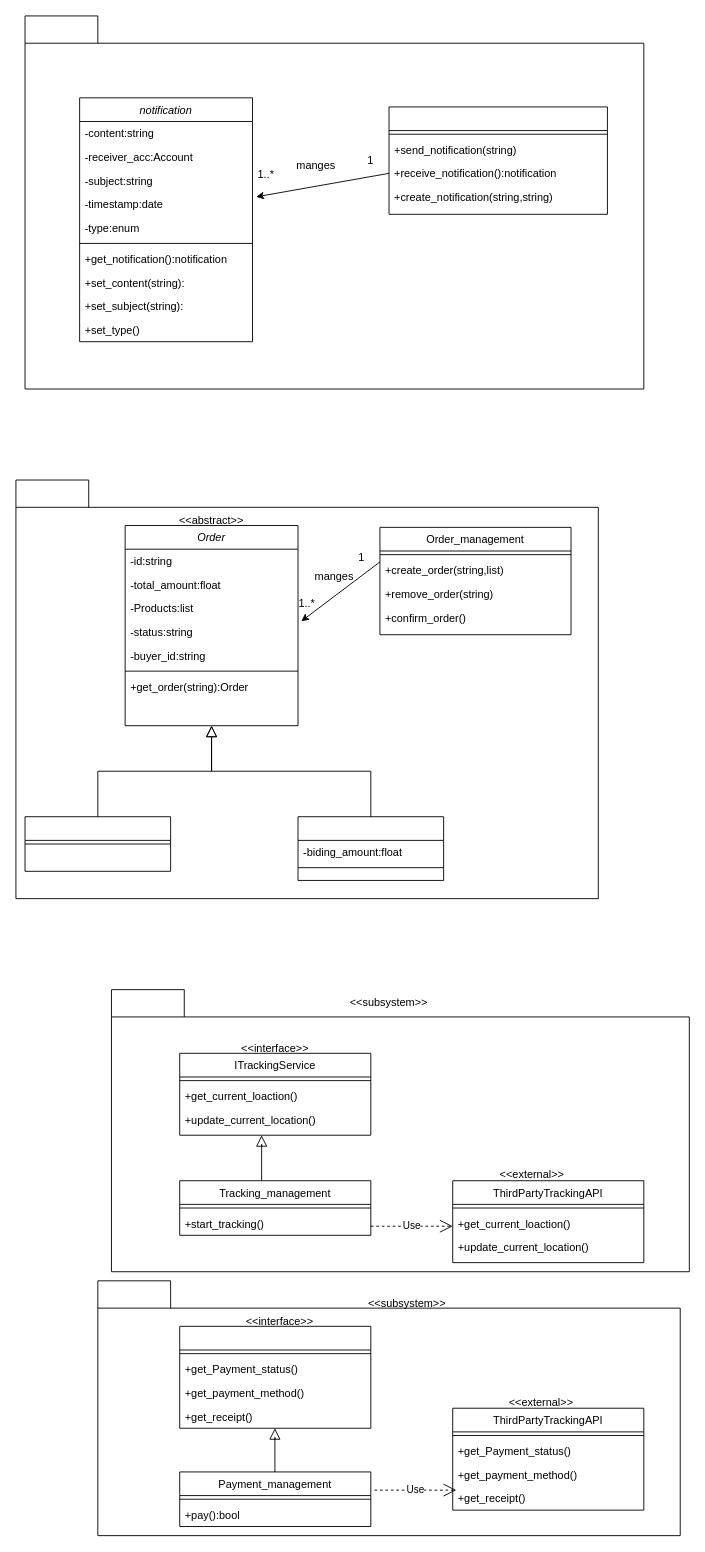
This 705x1552 diagram has some shape labels left out. The box of each missing label's shape, as (x1, y1, x2, y2) in pixels:
biding_order: (297, 816, 444, 880)
IPaymentService: (179, 1325, 371, 1428)
Normal_order: (24, 816, 171, 871)
Notifiaction_management: (388, 106, 607, 214)
